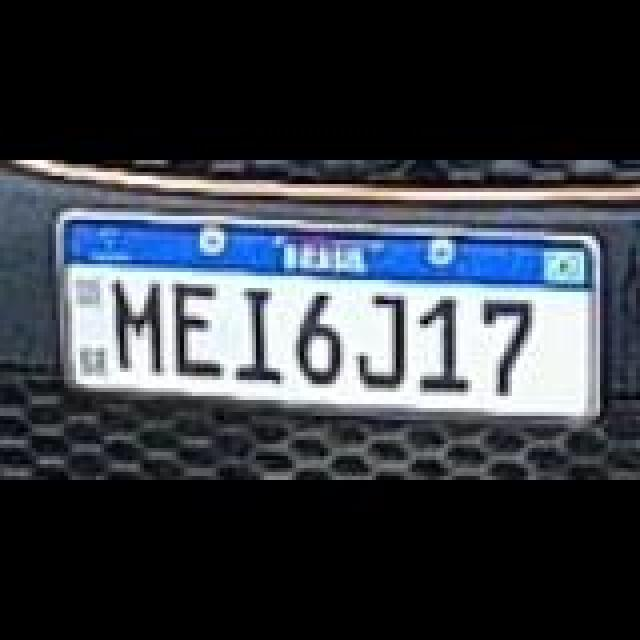1: (420, 294, 468, 394)
6: (296, 292, 344, 388)
7: (484, 298, 532, 398)
E: (174, 284, 226, 380)
I: (238, 288, 282, 384)
J: (358, 296, 410, 392)
M: (114, 280, 166, 376)
